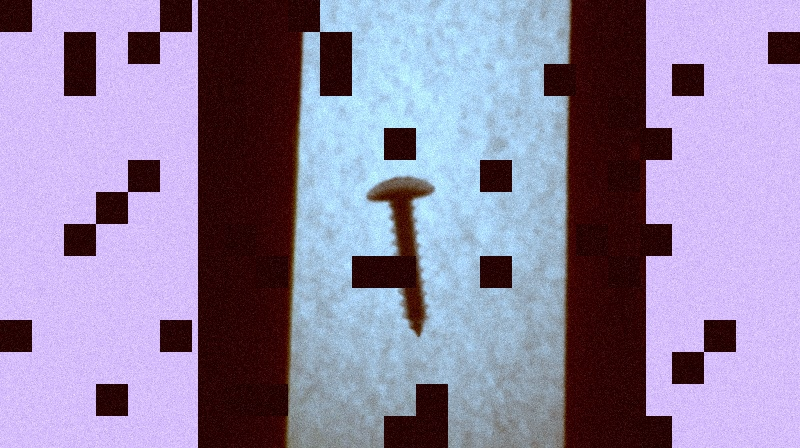S003: (365, 171, 439, 342)
